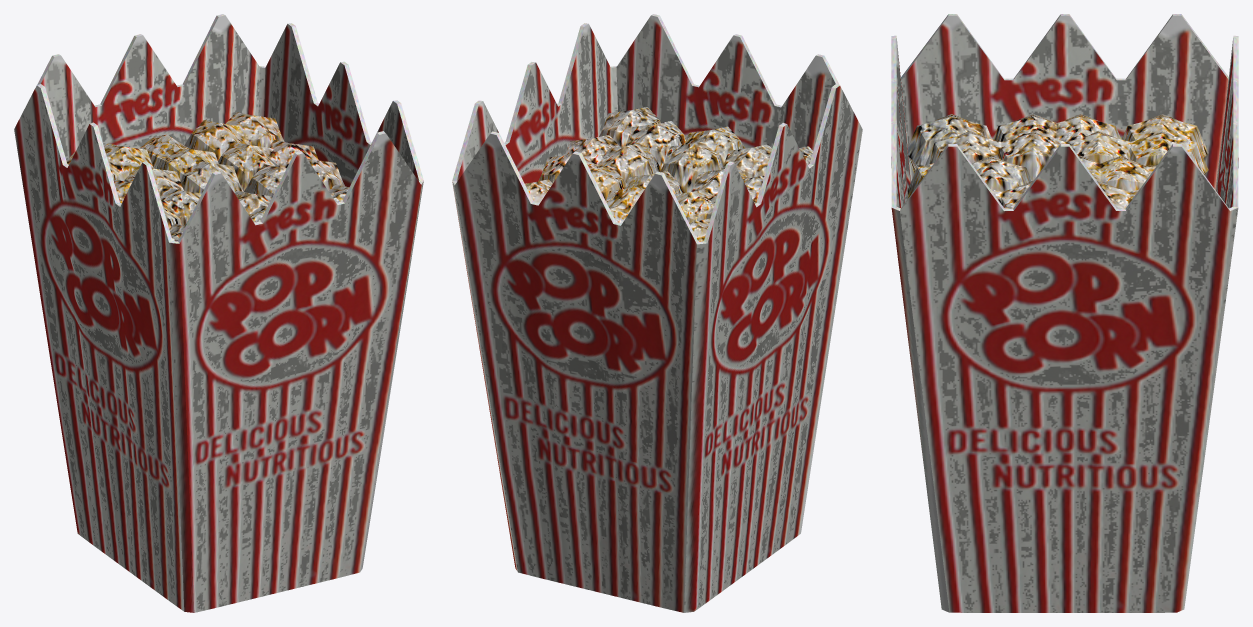
File: Popcorn_box.FBX
3 renders of one model, left to right at view 1: azimuth 30°, elevation 25°; view 2: azimuth 150°, elevation 25°; view 3: azimuth 270°, elevation 25°, orthographic. The views are drawn at different scales.
Visible parts, largest first — view 1: Box001, Box008; view 2: Box001, Box008; view 3: Box001, Box008.
Part boxes in pixels (x1,y1,x2,y2): Box001: [14, 14, 423, 612]; Box008: [66, 112, 349, 241]; Box001: [452, 14, 862, 612]; Box008: [525, 107, 813, 241]; Box001: [891, 14, 1238, 612]; Box008: [907, 114, 1208, 208].
Bounding box in the file's own units: 60.54 × 104 × 66.99.
